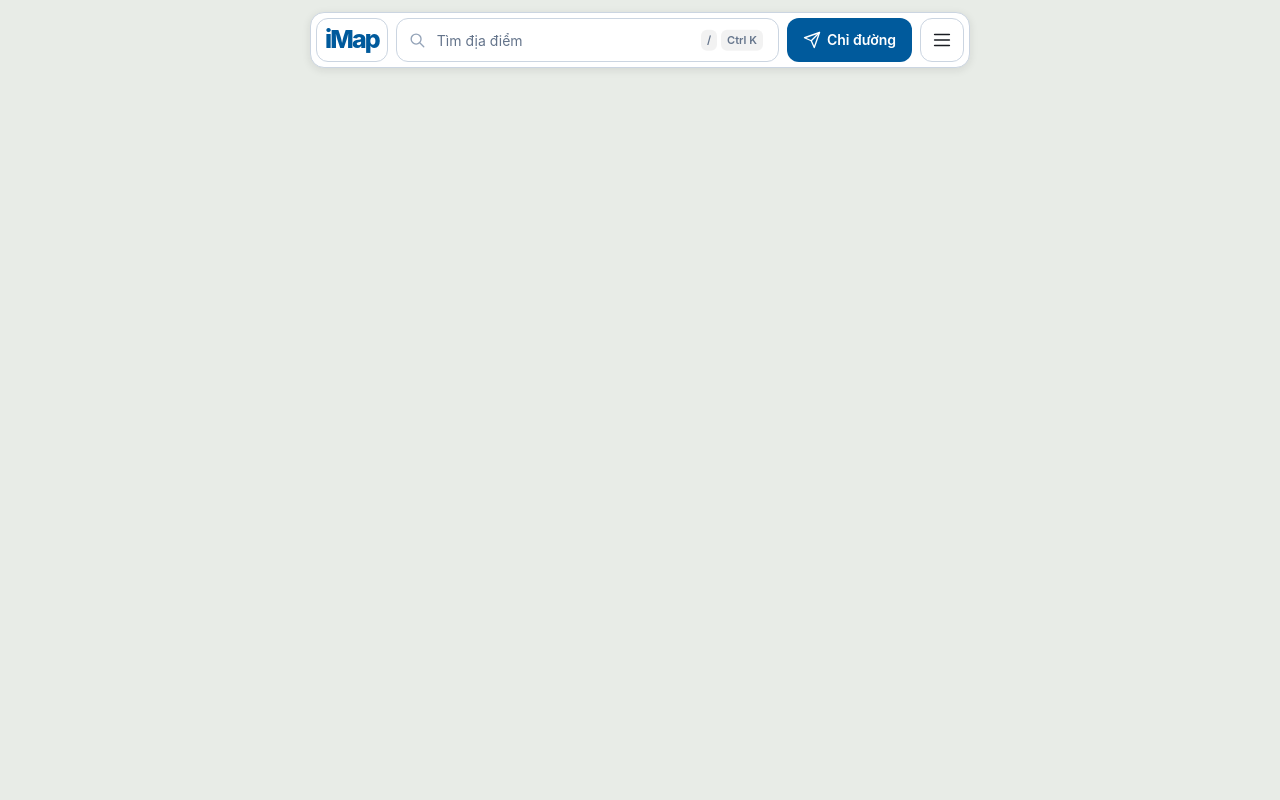
Scenario: TopBar sign-in button › chưa đăng nhập: ghi rõ "Đăng nhập" kèm biểu tượng, không còn chữ "ĐN" khó hiểu
Click the button named "Menu": click(942, 40) 920,18 -> 964,62
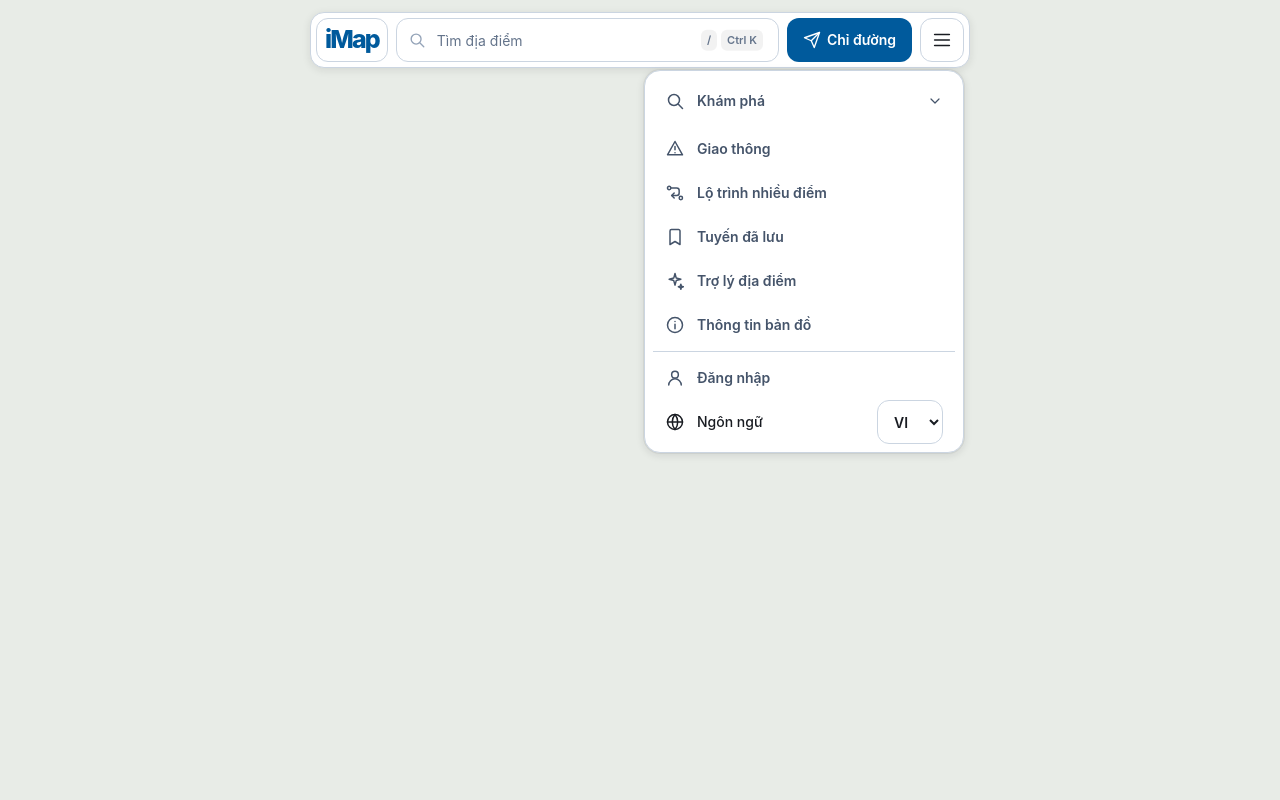
Expected: the link with aria-label "Đăng nhập tài khoản" reads "Đăng nhập", 665,368 -> 770,388
